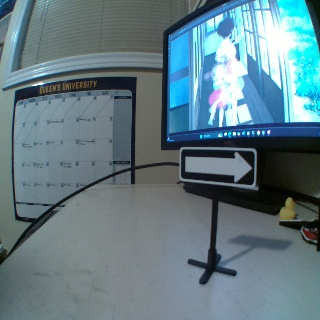sign_oneway_right: (178, 147, 254, 187)
